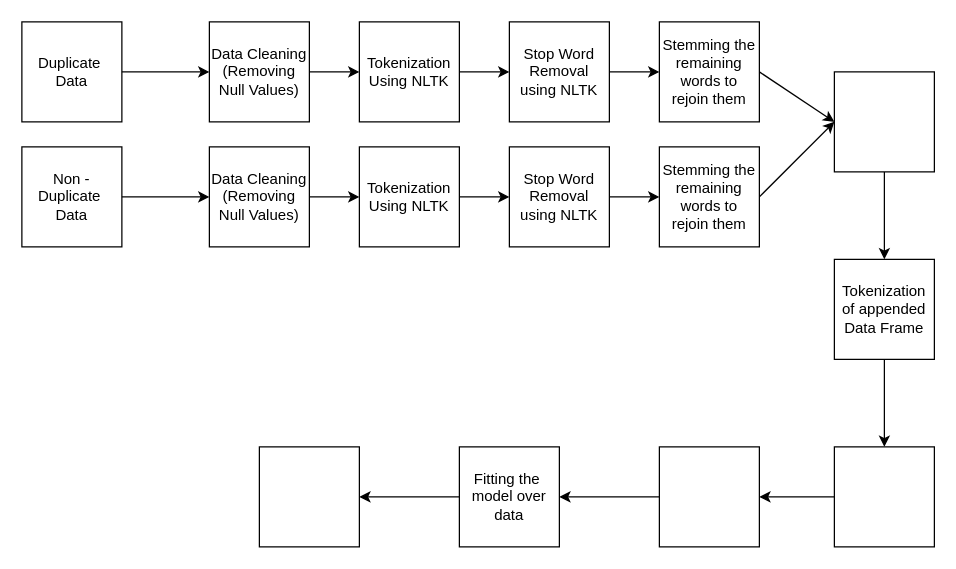
The diagram is 956 pixels wide and 569 high, and some of its shapes have lost their labels. Each missing label, with the box of its shape:
Appending the 2 data-frames created: (833, 71, 934, 172)
Encoding the Data: (833, 446, 934, 547)
Evaluation of the model: (258, 446, 359, 547)
Using Multichannel CNN model: (658, 446, 759, 547)
